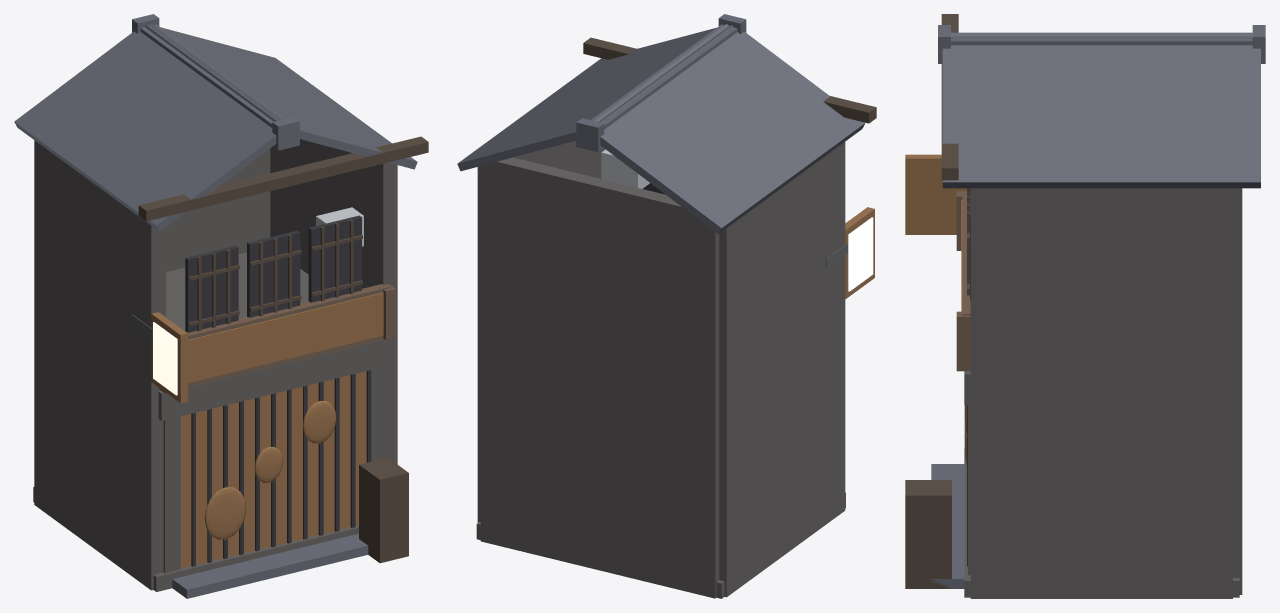
The model's file is prop_shop_haikyo.glb.
3 views of the same model, side by side, from view 1: azimuth 30°, elevation 25°; view 2: azimuth 150°, elevation 25°; view 3: azimuth 270°, elevation 25° (orthographic). The views are drawn at different scales.
Visible parts, largest first — view 1: shop_haikyo; view 2: shop_haikyo; view 3: shop_haikyo.
Boxes of the visible parts, <box> form: shop_haikyo: <box>14,14,428,598</box>; shop_haikyo: <box>457,14,876,598</box>; shop_haikyo: <box>905,14,1265,598</box>.
Bounding box in the file's own units: 3.9 × 5.9 × 3.85.
